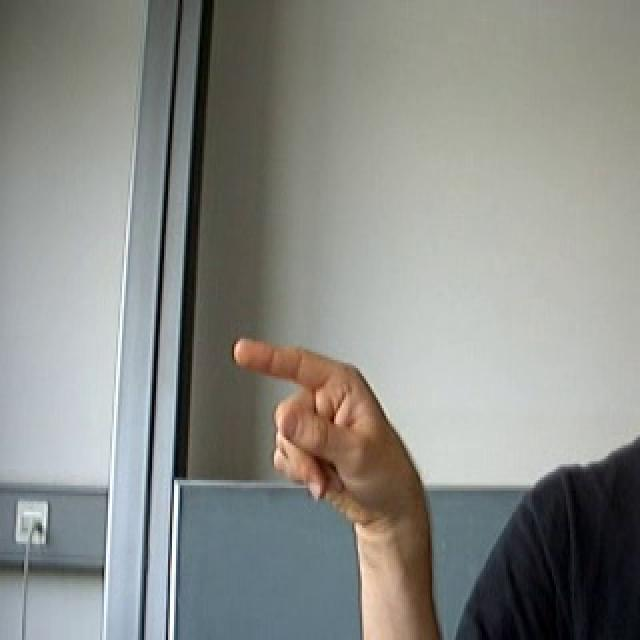P: (228, 327, 454, 537)
